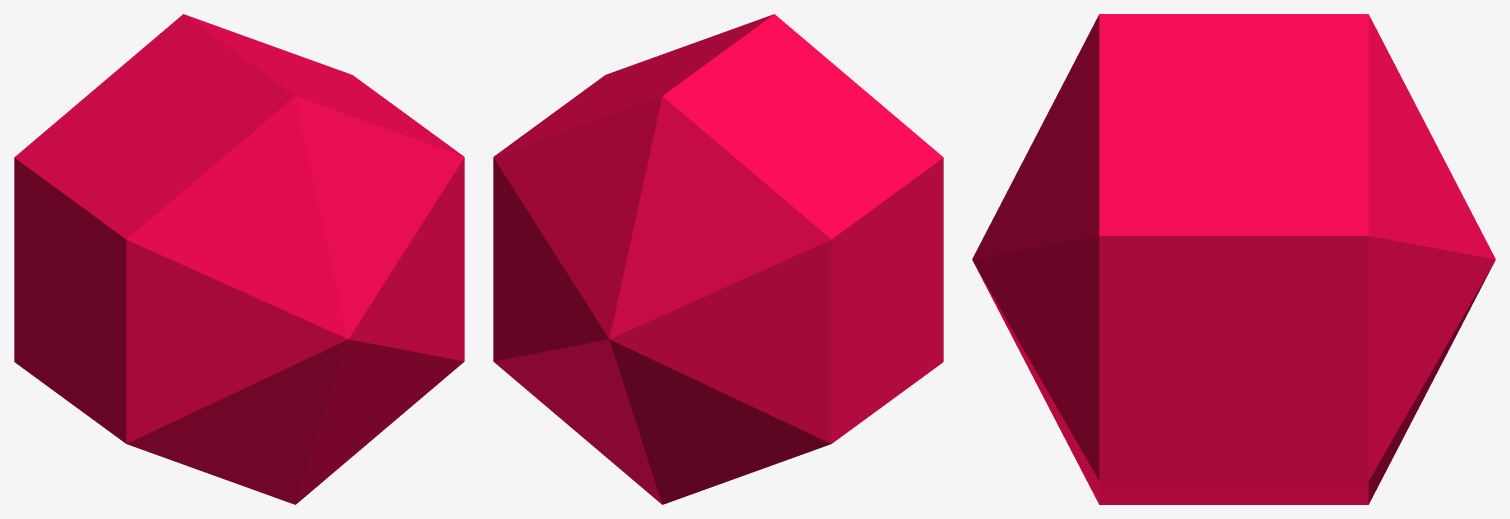
Rendered from Street_Light_Light.gltf.
3 views of the same model, side by side, from view 1: azimuth 30°, elevation 25°; view 2: azimuth 150°, elevation 25°; view 3: azimuth 270°, elevation 25° (orthographic). The views are drawn at different scales.
Visible parts, largest first — view 1: Street_Light_Light; view 2: Street_Light_Light; view 3: Street_Light_Light.
Part boxes in pixels (left/top/right/bottom): Street_Light_Light: left=14, top=14, right=464, bottom=504; Street_Light_Light: left=493, top=14, right=943, bottom=504; Street_Light_Light: left=972, top=14, right=1495, bottom=504.
Bounding box in the file's own units: 0.5528 × 0.6383 × 0.6173.
Materials: 1 (1 with a texture image).
